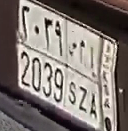0: (31, 24, 42, 93)
2: (20, 5, 31, 88)
3: (42, 17, 54, 98)
9: (52, 20, 64, 104)
A: (89, 46, 98, 119)
S: (67, 41, 78, 106)
Z: (78, 40, 88, 113)
